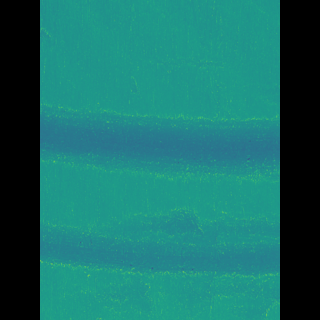Loch: (68, 103, 251, 179), (68, 214, 250, 278)
